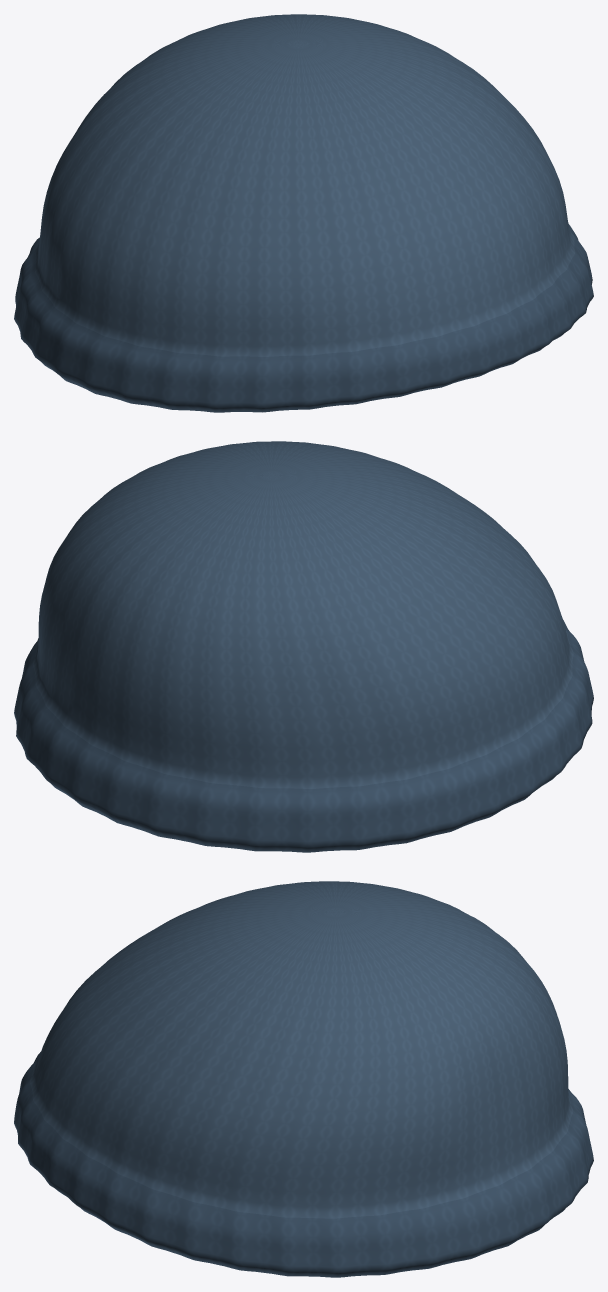
Rendered from beanie-feminine-side-sweep.glb.
The picture shows the model from 3 angles, top to bottom: view 1: azimuth 30°, elevation 25°; view 2: azimuth 150°, elevation 25°; view 3: azimuth 270°, elevation 25°; orthographic projection.
Parts seen in each view (by area): view 1: Beanie / fitted knit; view 2: Beanie / fitted knit; view 3: Beanie / fitted knit.
Part boxes in pixels (x1,y1,x2,y2): Beanie / fitted knit: [14, 14, 593, 412]; Beanie / fitted knit: [14, 441, 593, 852]; Beanie / fitted knit: [14, 881, 593, 1277].
Bounding box in the file's own units: 0.8052 × 0.4059 × 0.8043.
2 materials, 2 textured.
